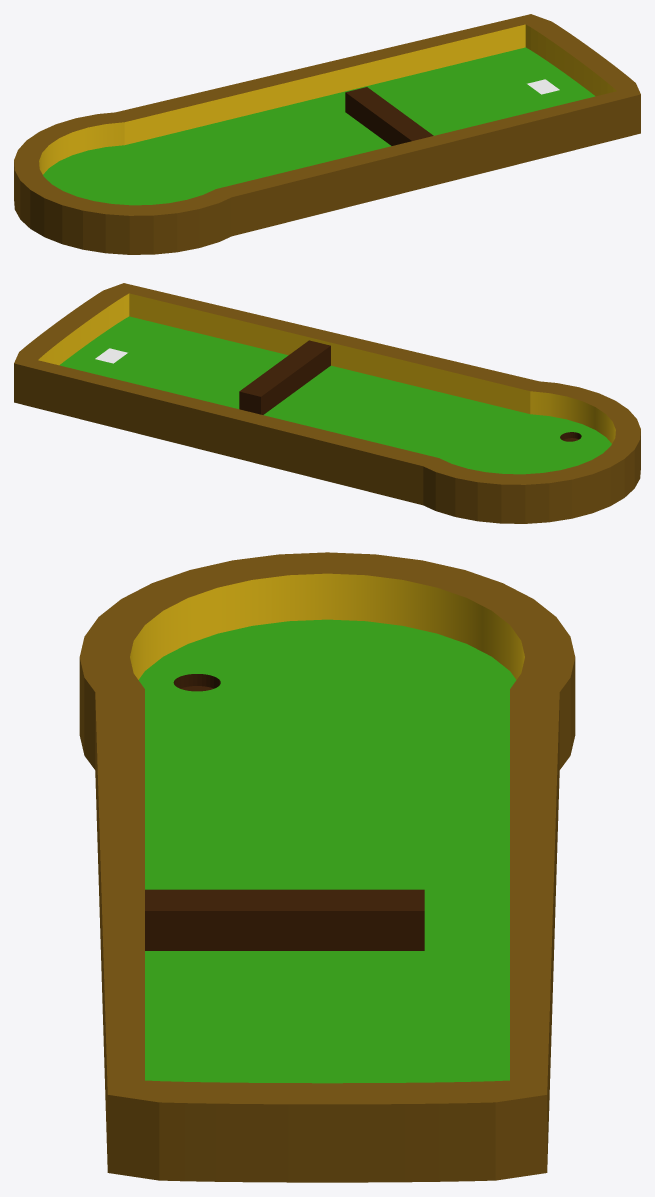
Rendered from playgroundLvl1Final.glb.
The picture shows the model from 3 angles, top to bottom: view 1: azimuth 30°, elevation 25°; view 2: azimuth 150°, elevation 25°; view 3: azimuth 270°, elevation 25°; orthographic projection. The views are drawn at different scales.
Parts seen in each view (by area): view 1: Circle; view 2: Circle; view 3: Circle.
Part boxes in pixels (box(x1,y1,x2,y2)): Circle: box(14, 14, 640, 254); Circle: box(14, 283, 640, 523); Circle: box(79, 552, 575, 1182).
Bounding box in the file's own units: 33.2 × 2.19 × 12.6.
